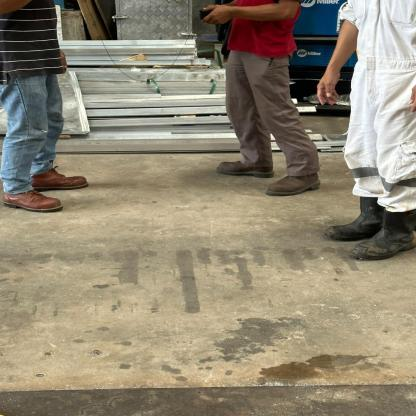bota: (346, 210, 416, 268), (319, 193, 387, 240), (0, 186, 68, 216), (26, 162, 92, 192), (216, 150, 274, 180), (262, 166, 318, 197)
